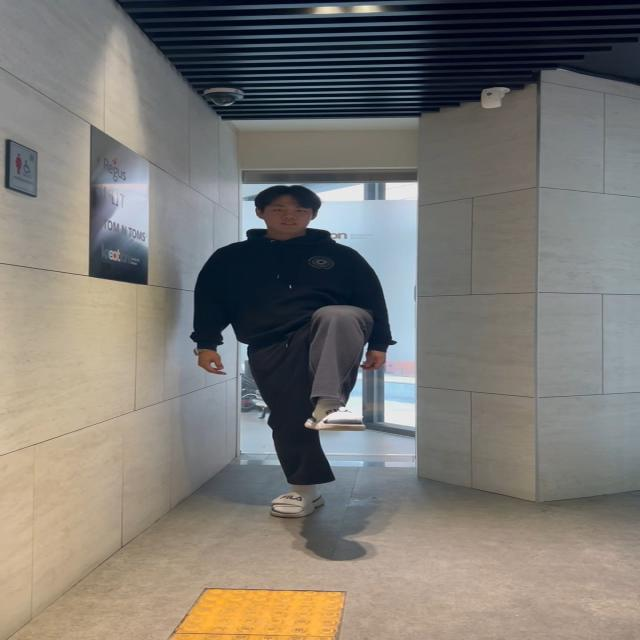knee: (294, 289, 387, 444)
